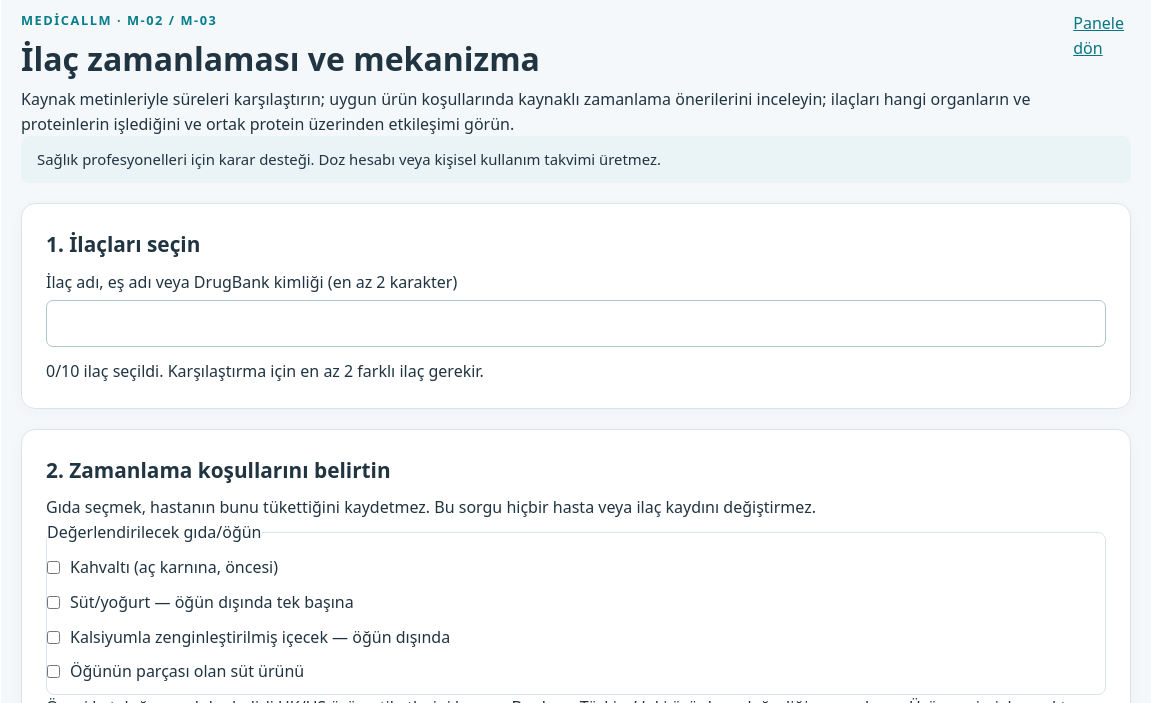
Test case: M02 complete screen › keeps a failed PK request separate from the independent advice result
Step 1. Type "Drug" into the field labelled "İlaç adı, eş adı veya DrugBank kimliği (en az 2 karakter)" → (576, 324), box 46,300 -> 1106,347
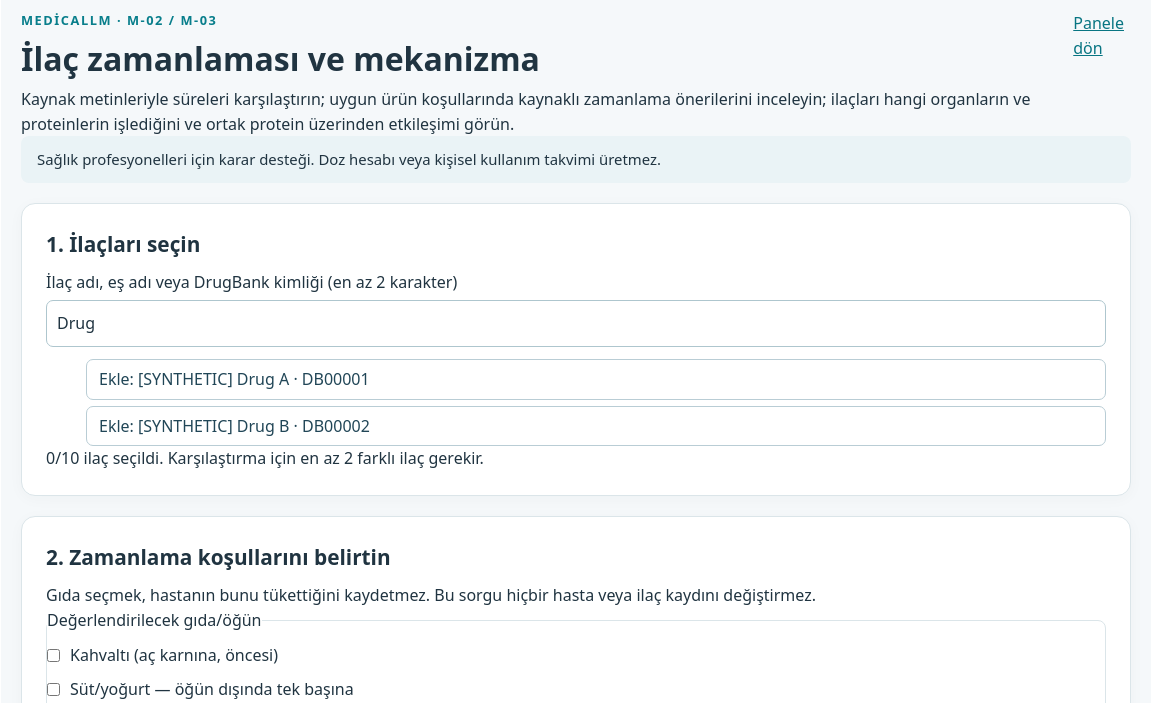
Step 2. Click the button "Ekle: [SYNTHETIC] Drug A · DB00001" → (119, 379), box 86,359 -> 1106,400
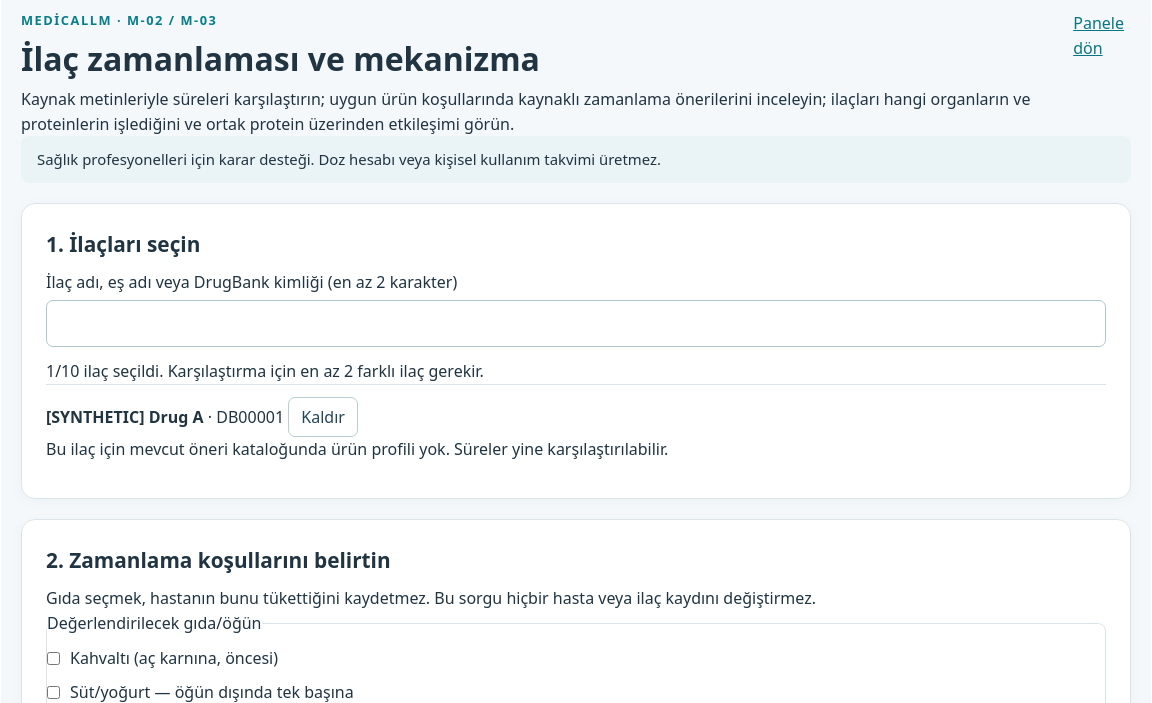
Step 3. Type "Drug" into the field labelled "İlaç adı, eş adı veya DrugBank kimliği (en az 2 karakter)" → (576, 324), box 46,300 -> 1106,347
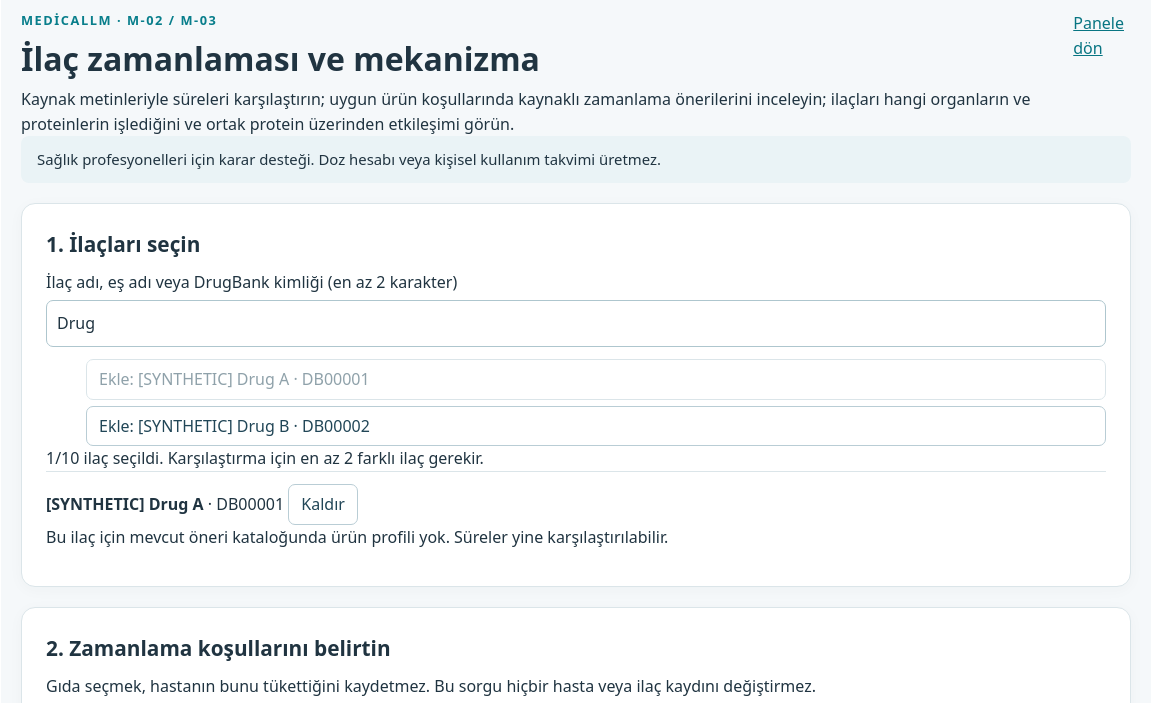
Step 4. Click the button "Ekle: [SYNTHETIC] Drug B · DB00002" → (119, 426), box 86,406 -> 1106,446
(page scrolled)
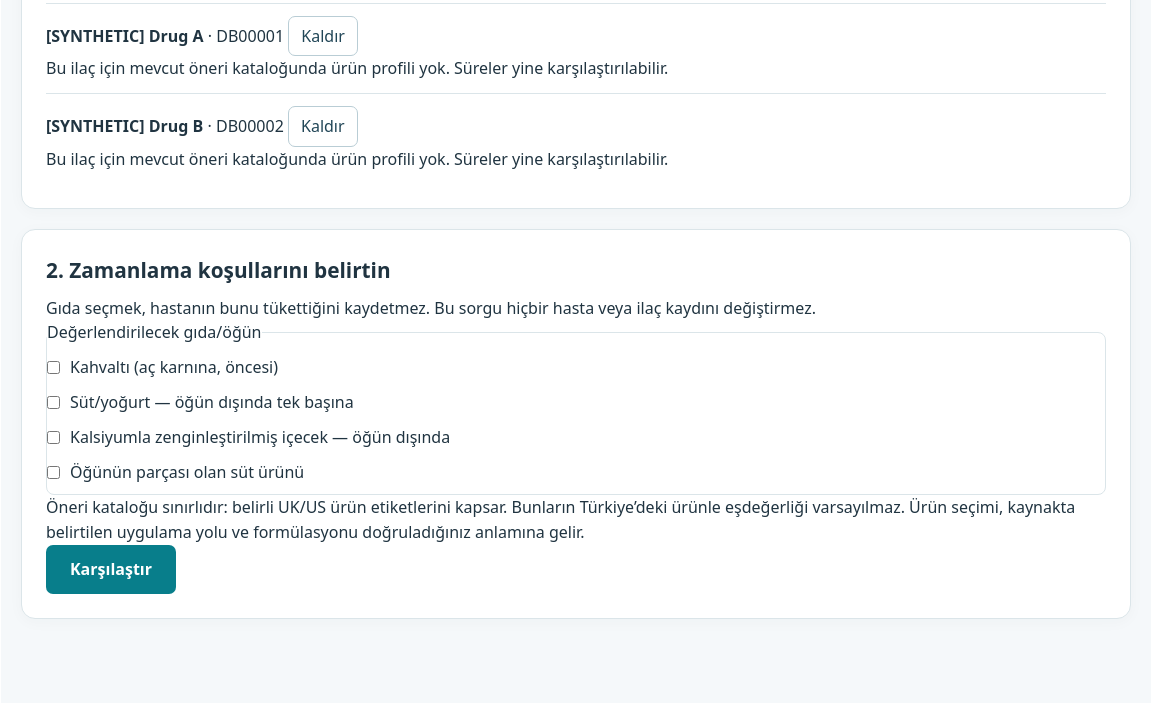
Step 5. Click the button "Karşılaştır" → (111, 569), box 46,545 -> 176,594
(page scrolled)
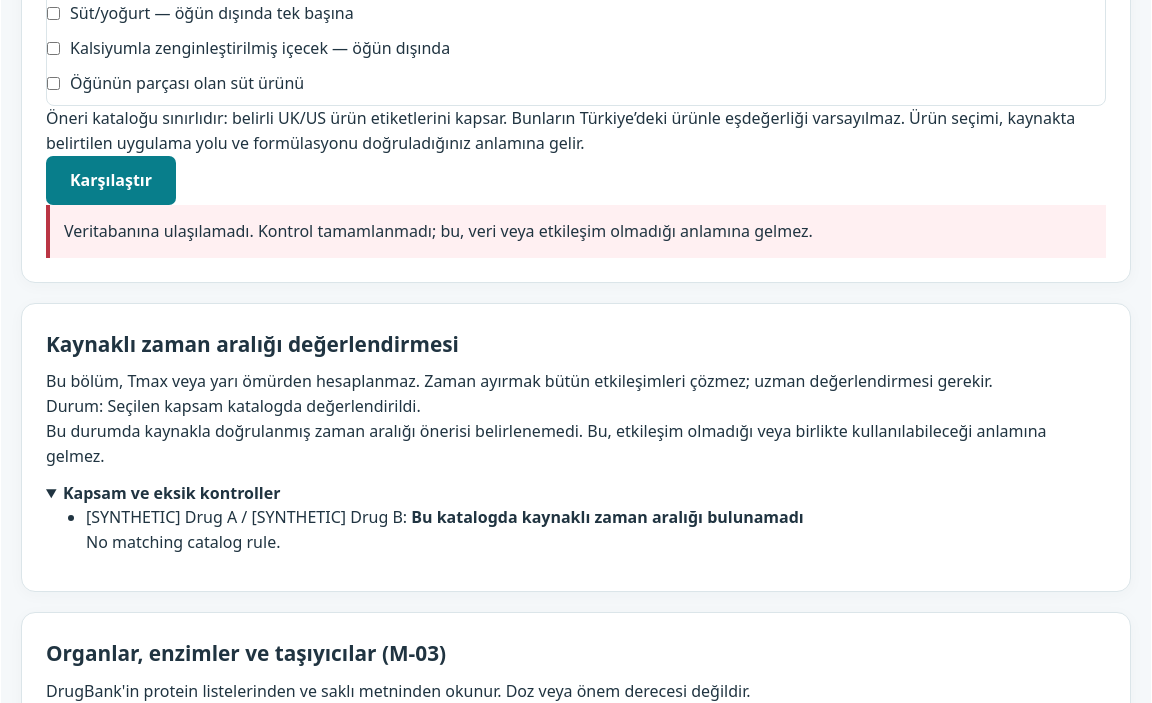
Expected: the message is shown, 46,205 -> 1106,258
Expected: the heading "Kaynaklı zaman aralığı değerlendirmesi" is shown, 46,330 -> 459,358
